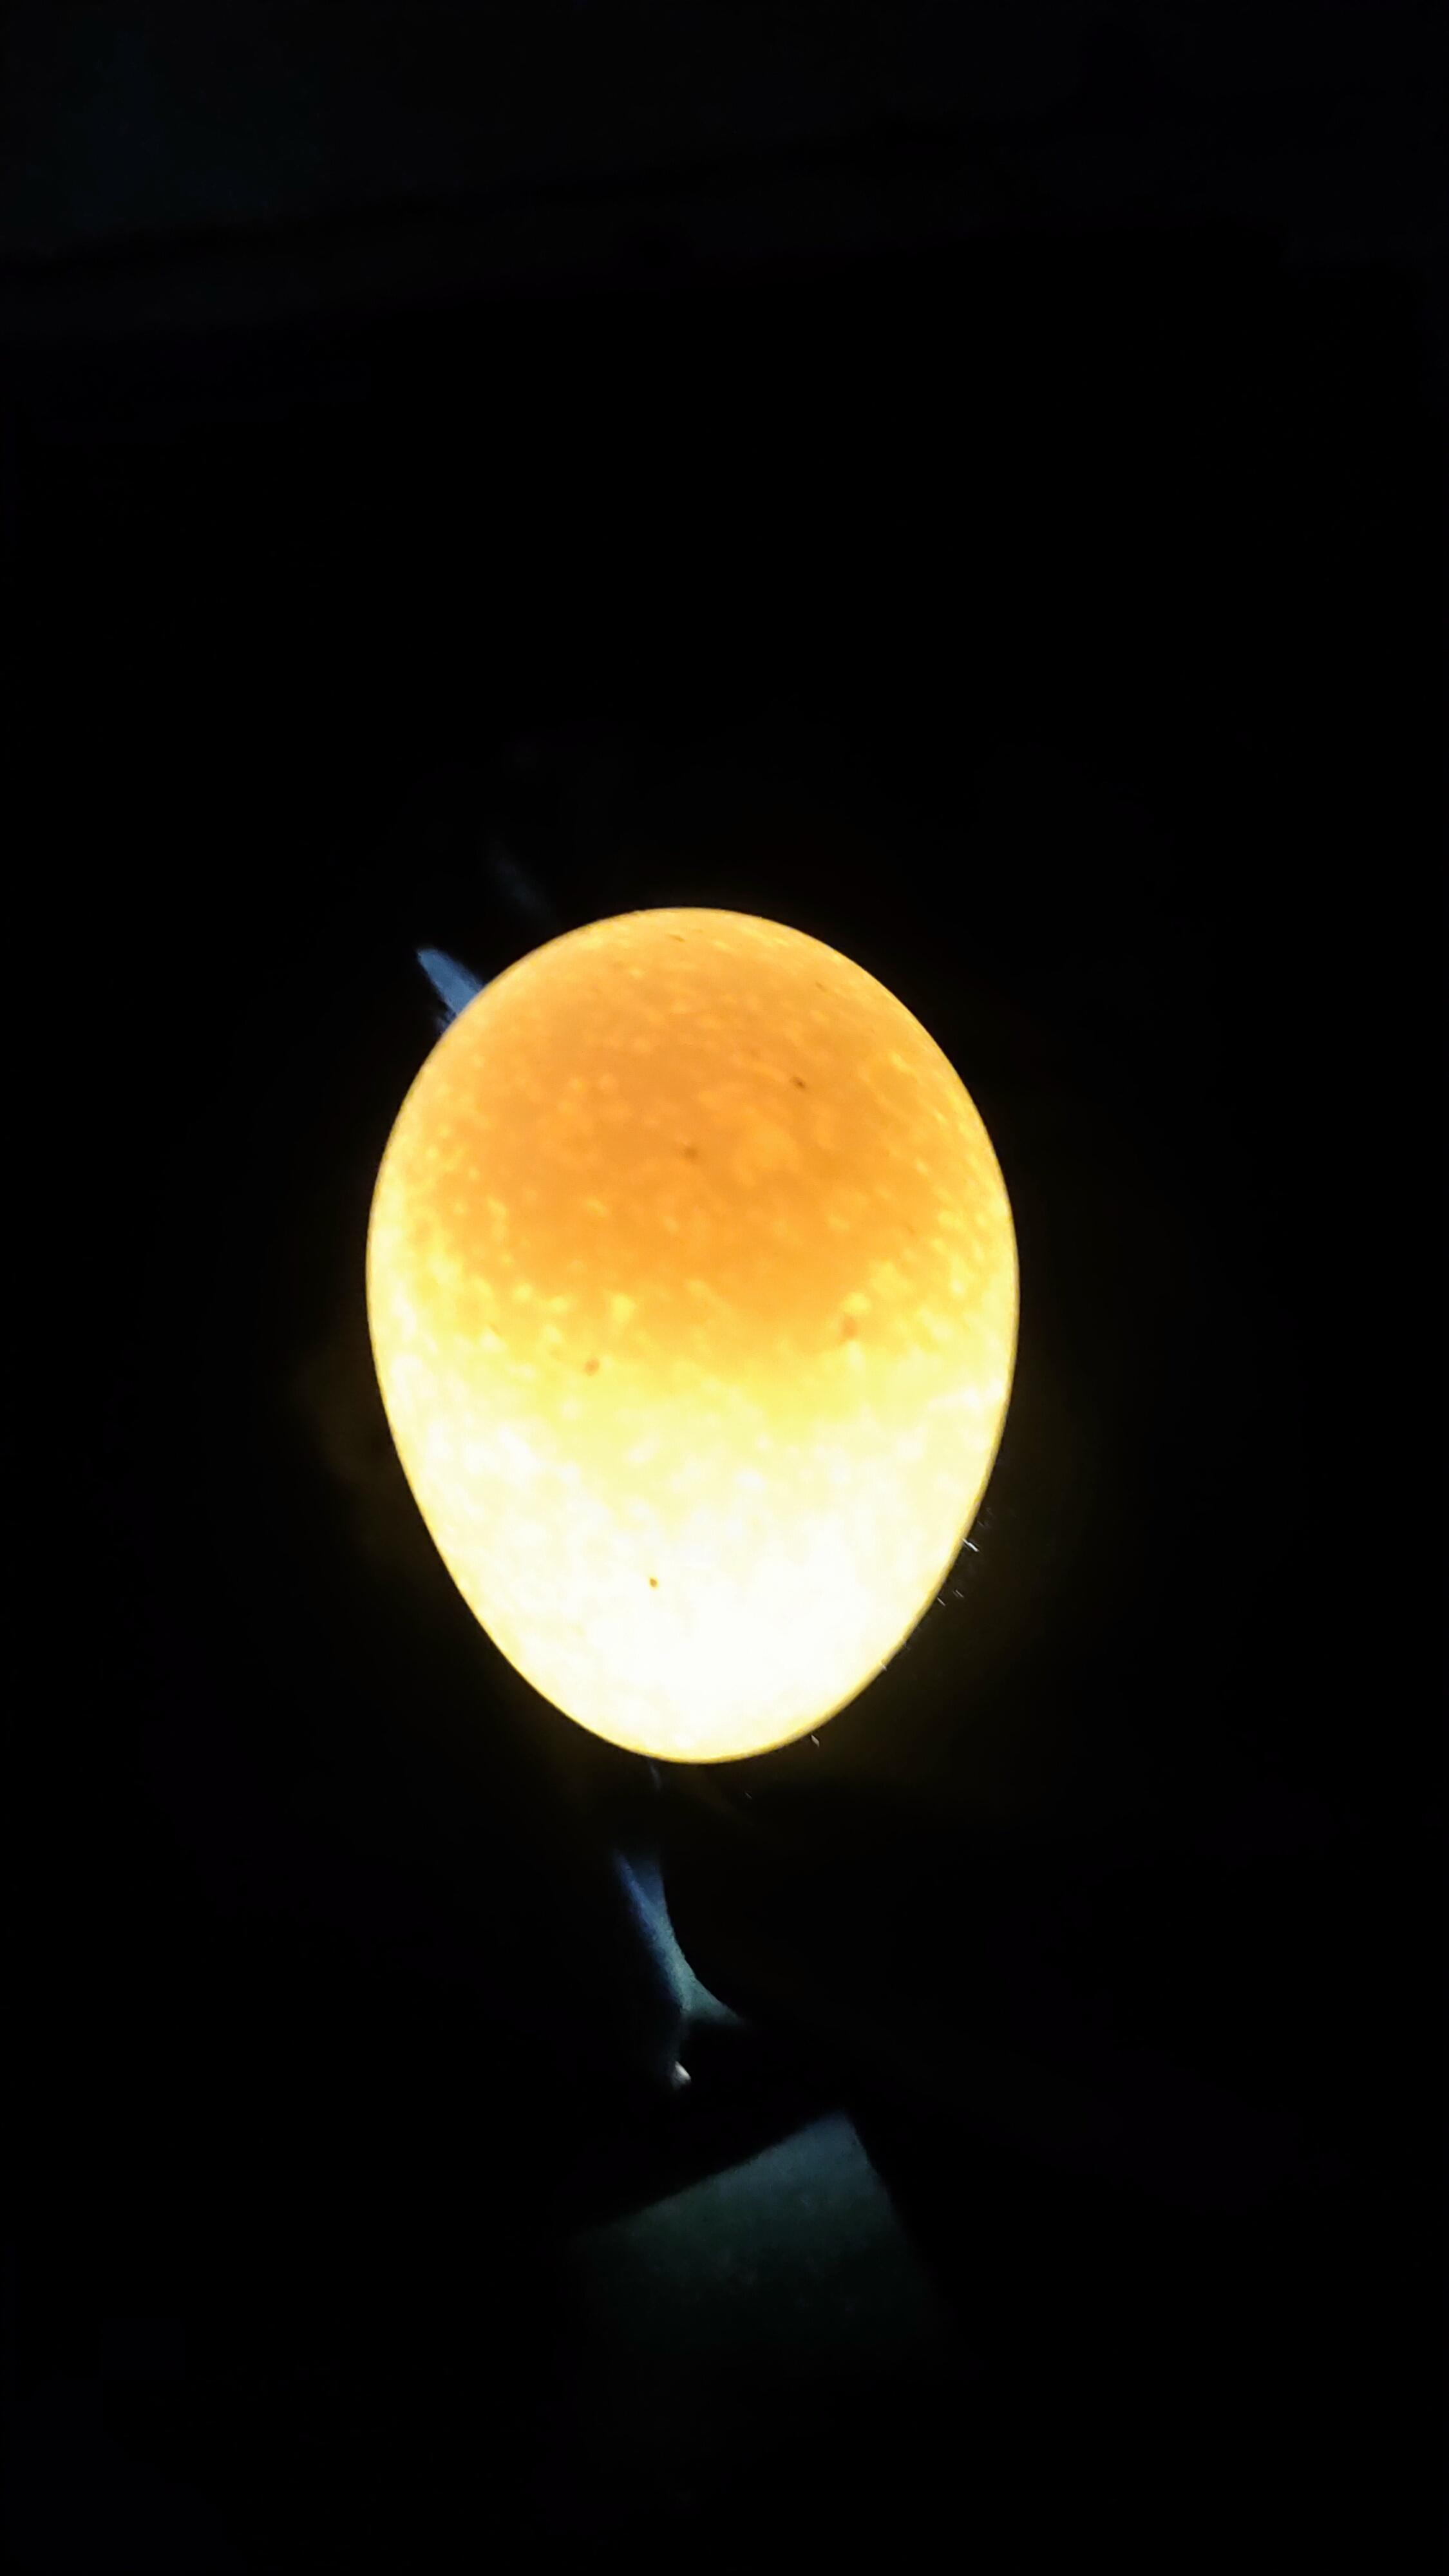Inedible: (349, 832, 1024, 1822)
